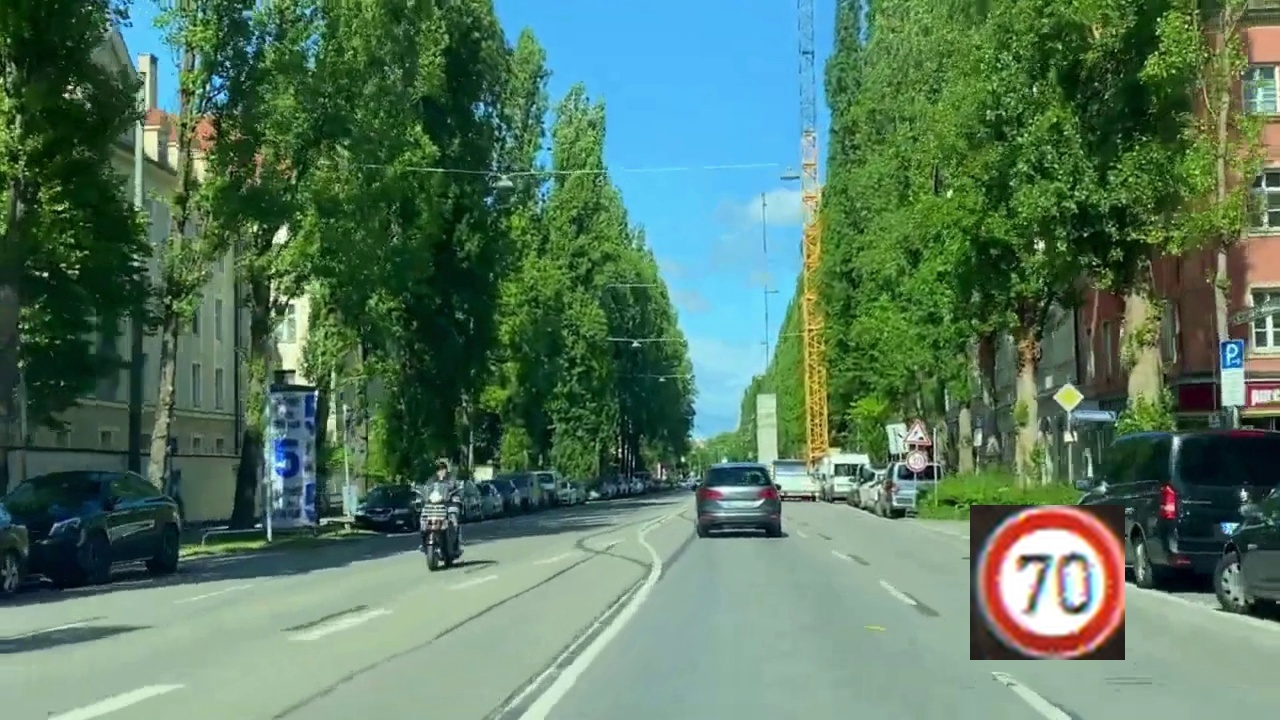Speed 70: (970, 505, 1125, 660)
